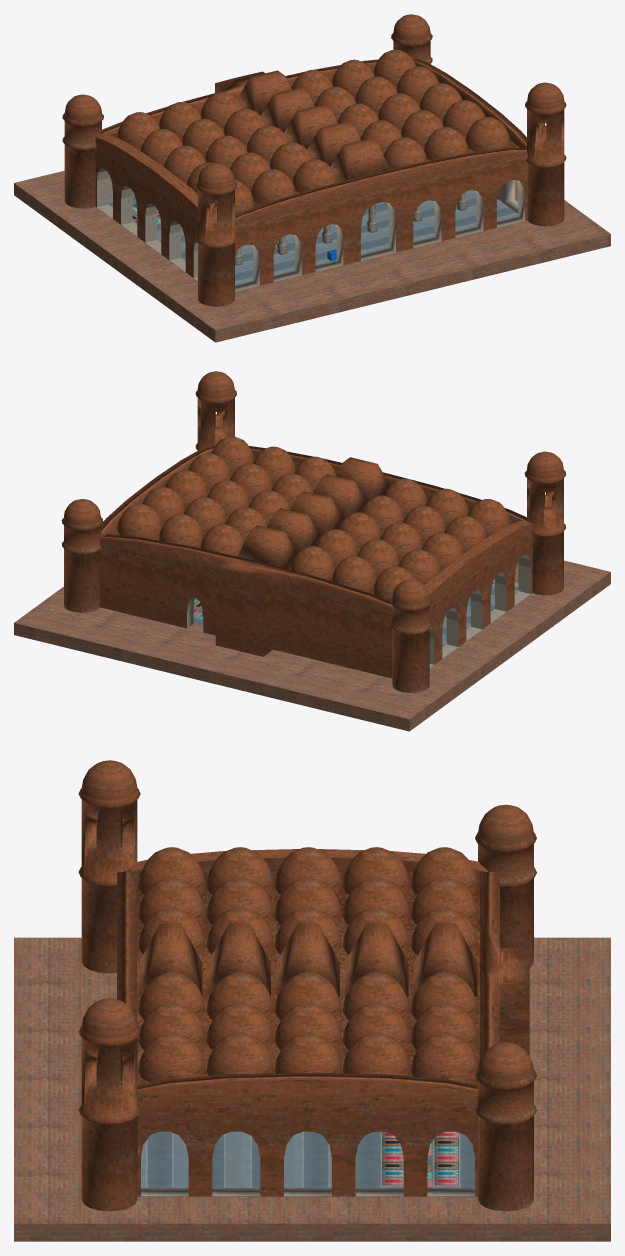
Rendered from shat-gombuj-masjid.glb.
3 renders of one model, top to bottom at view 1: azimuth 30°, elevation 25°; view 2: azimuth 150°, elevation 25°; view 3: azimuth 270°, elevation 25°, orthographic. The views are drawn at different scales.
Parts seen in each view (by area): view 1: Cube.010, Cube, Sphere.003, Sphere.002, Cube.009, Cube.004, Cylinder.005, Cylinder.001, fure, Cylinder.004, Cube.014, Cube.013 (+4 smaller); view 2: Cube.010, Cube.007, Sphere.002, Sphere.003, Cube.009, Cube.004, Cylinder.001, Cylinder.004, Cylinder.003, Cylinder.005, Cube.013, Cube.002 (+2 smaller); view 3: Cube.010, Sphere.003, Cube.002, Sphere.002, Cube.009, Cylinder.005, fure, Cylinder.001, Cylinder.003, Cube.007, Cube.008, Cylinder.004 (+5 smaller).
Part boxes in pixels (x1,y1,x2,y2): Cube.010: [14, 170, 610, 342]; Cube: [235, 147, 527, 291]; Sphere.003: [291, 49, 510, 169]; Sphere.002: [117, 91, 337, 214]; Cube.009: [237, 70, 390, 182]; Cube.004: [95, 133, 197, 280]; Cylinder.005: [525, 82, 566, 226]; Cylinder.001: [195, 163, 237, 306]; fure: [108, 190, 518, 284]; Cylinder.004: [62, 94, 103, 208]; Cube.014: [235, 180, 524, 291]; Cube.013: [97, 168, 197, 280]; Cube.010: [14, 560, 610, 731]; Cube.007: [100, 534, 392, 678]; Sphere.002: [290, 478, 510, 600]; Sphere.003: [117, 436, 336, 556]; Cube.009: [237, 457, 390, 569]; Cube.004: [425, 520, 532, 665]; Cylinder.001: [524, 451, 566, 595]; Cylinder.004: [390, 579, 431, 692]; Cylinder.003: [61, 499, 103, 612]; Cylinder.005: [195, 371, 236, 450]; Cube.013: [429, 555, 530, 667]; Cube.002: [101, 445, 214, 537]; Cube.010: [14, 937, 610, 1241]; Sphere.003: [138, 972, 478, 1082]; Cube.002: [137, 1072, 477, 1196]; Sphere.002: [138, 847, 478, 955]; Cube.009: [138, 923, 477, 996]; Cylinder.005: [78, 998, 140, 1211]; fure: [141, 1131, 474, 1187]; Cylinder.001: [78, 760, 140, 973]; Cylinder.003: [475, 1042, 536, 1211]; Cube.007: [480, 872, 529, 1060]; Cube.008: [137, 872, 479, 1085]; Cylinder.004: [475, 804, 536, 967].
Bounding box in the file's own units: 85 × 30.04 × 75.
Materials: 11 (11 with a texture image).
